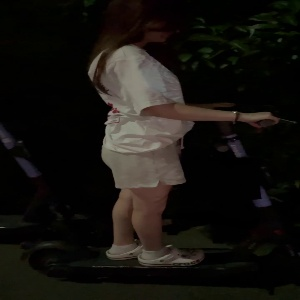human on a scooter: (16, 1, 299, 287)
